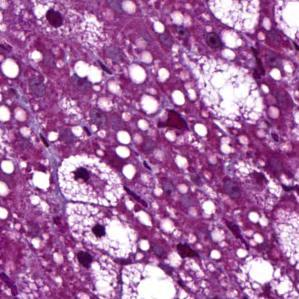ballooning: (187, 54, 268, 132), (64, 199, 139, 264), (56, 153, 126, 208)
